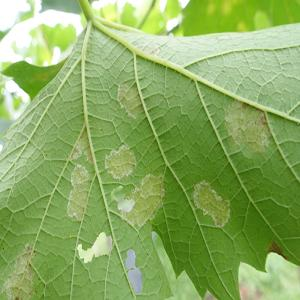Folha: (0, 15, 299, 299)
Fungo: (223, 99, 271, 156), (121, 172, 163, 230), (1, 243, 36, 299), (192, 179, 230, 228), (66, 163, 90, 221), (104, 142, 136, 180), (117, 81, 137, 119), (70, 129, 86, 161), (70, 164, 90, 186), (70, 142, 82, 162), (82, 145, 94, 165)
